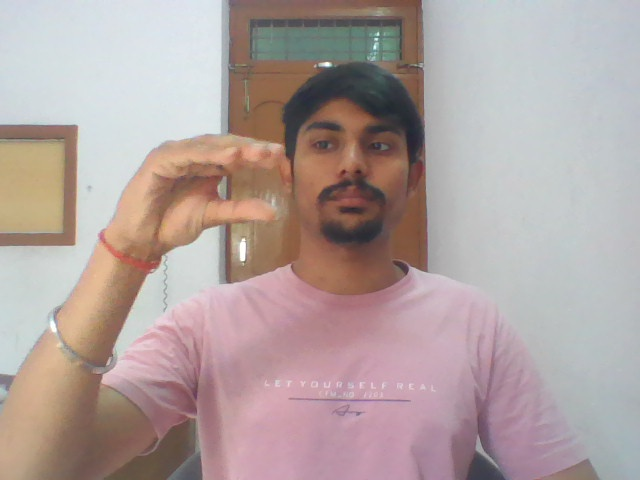No: (112, 110, 300, 253)
